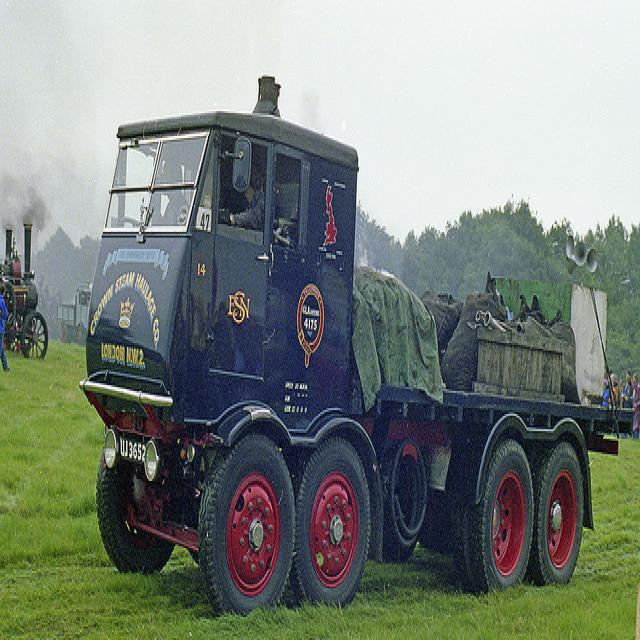Vehicle: (81, 79, 634, 617)
